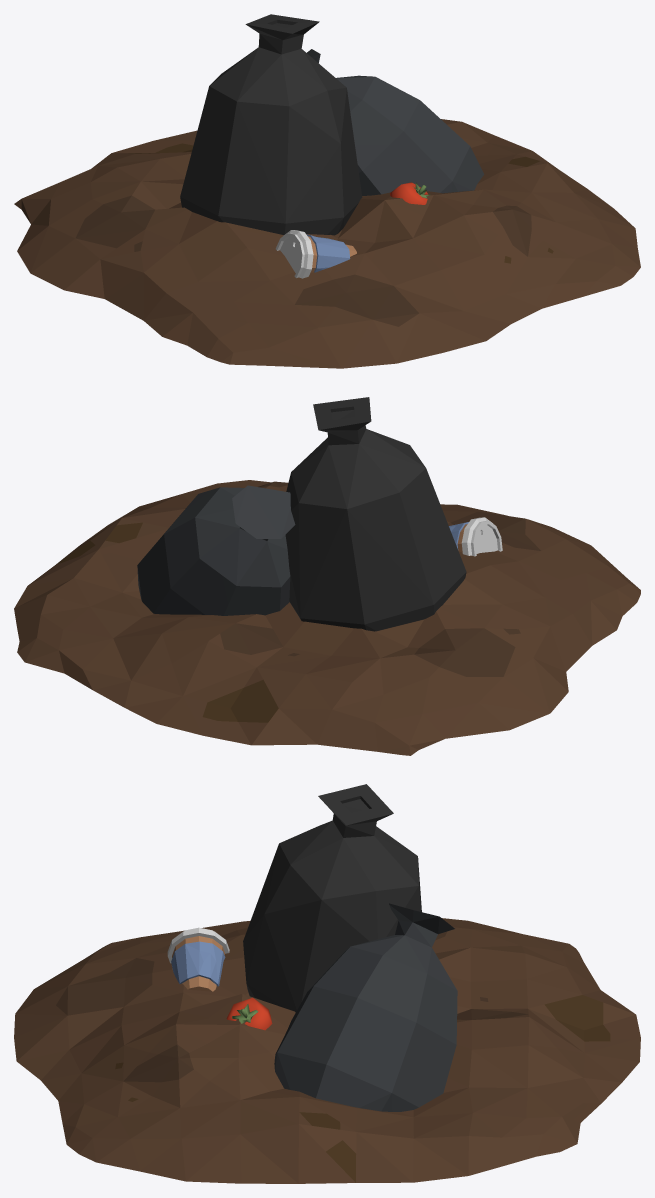
File: Garbage_01.glb
The picture shows the model from 3 angles, top to bottom: view 1: azimuth 30°, elevation 25°; view 2: azimuth 150°, elevation 25°; view 3: azimuth 270°, elevation 25°; orthographic projection. The views are drawn at different scales.
Parts seen in each view (by area): view 1: Garbage_01; view 2: Garbage_01; view 3: Garbage_01.
Part boxes in pixels (<box>): Garbage_01: <box>14,14,640,368</box>; Garbage_01: <box>14,397,640,755</box>; Garbage_01: <box>14,784,640,1183</box>.
Size of the model in its own units: 1.28 by 0.709 by 1.27.
Materials: 1 (1 with a texture image).
